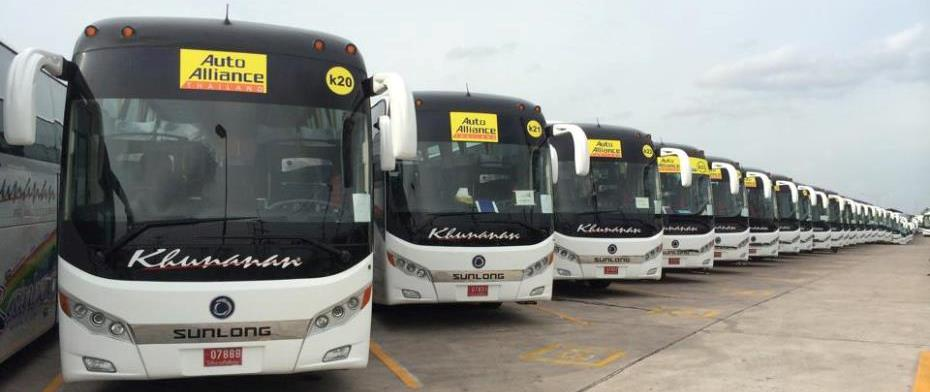bus: (58, 14, 373, 381), (386, 87, 554, 302), (557, 120, 658, 274), (658, 143, 715, 270), (720, 157, 749, 261)
